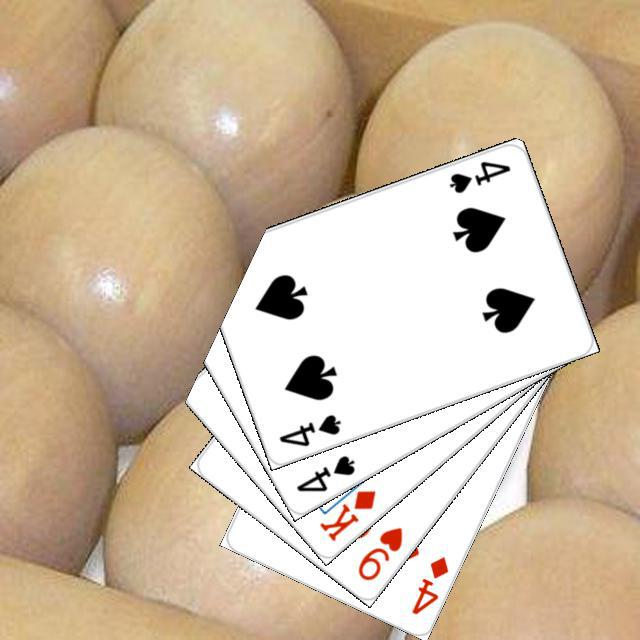4d: (406, 551, 451, 617)
4s: (291, 450, 357, 494), (274, 409, 343, 449), (444, 156, 513, 195)
9h: (352, 521, 405, 583)
Kd: (314, 485, 378, 543)
